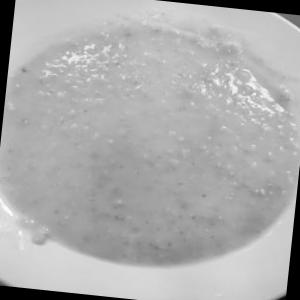porridge: (3, 3, 300, 276)
